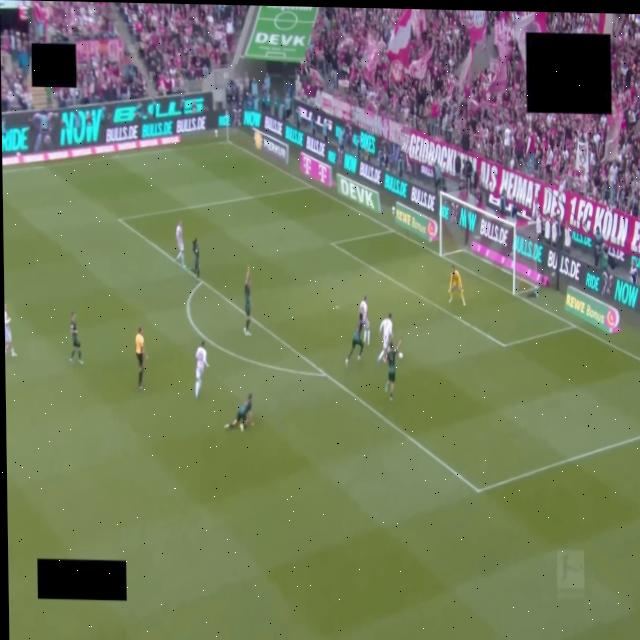ball: (398, 353, 402, 360)
player: (224, 393, 253, 430), (385, 339, 401, 401), (345, 313, 363, 366), (377, 313, 393, 363), (196, 341, 208, 398), (4, 304, 16, 356), (70, 313, 82, 364), (449, 266, 464, 305), (359, 296, 370, 345), (244, 266, 251, 335), (176, 221, 185, 268), (193, 238, 199, 278)
referee: (135, 326, 148, 390)
